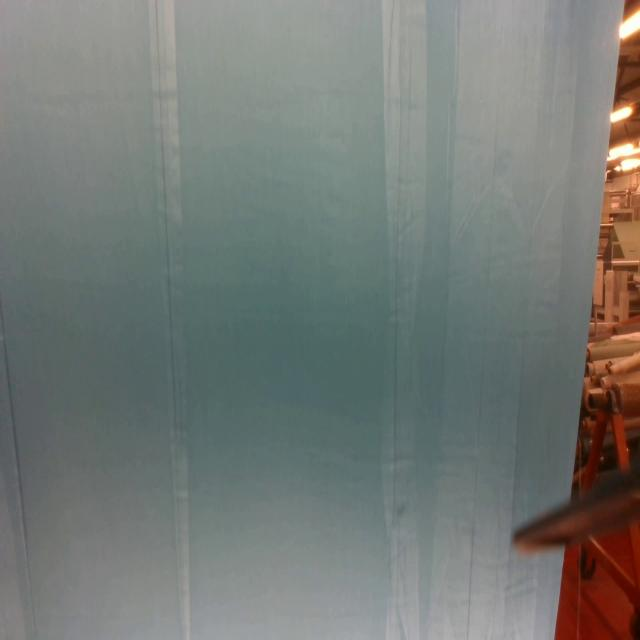crease: (432, 0, 504, 636), (150, 0, 192, 640), (380, 0, 421, 640), (0, 296, 40, 640)
